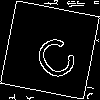C: (25, 25, 82, 84)
